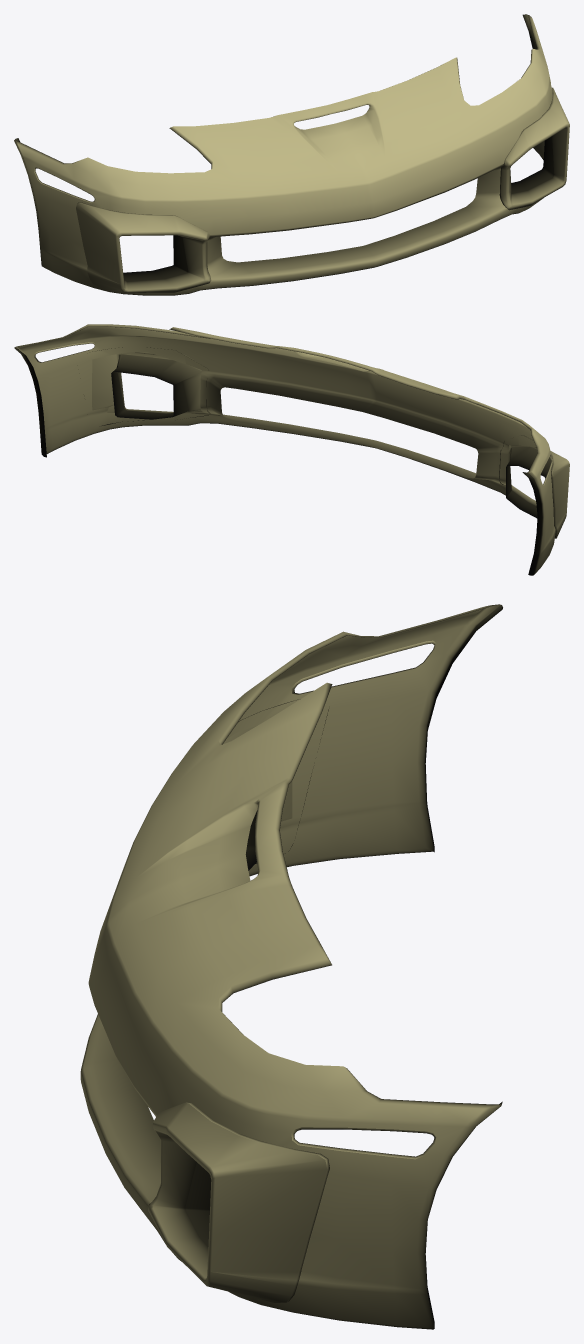
Rendered from Zr1_FB_03_Duco.fbx.
3 views of the same model, one above another, from view 1: azimuth 30°, elevation 25°; view 2: azimuth 150°, elevation 25°; view 3: azimuth 270°, elevation 25° (orthographic). The views are drawn at different scales.
Parts seen in each view (by area): view 1: Zr1_FB_03_Duco; view 2: Zr1_FB_03_Duco; view 3: Zr1_FB_03_Duco.
Boxes of the visible parts, box(x1,y1,x2,y2) form: Zr1_FB_03_Duco: box(14, 14, 569, 295); Zr1_FB_03_Duco: box(14, 324, 569, 575); Zr1_FB_03_Duco: box(80, 604, 502, 1329).
Size of the model in its own units: 188 by 47.09 by 66.78.
